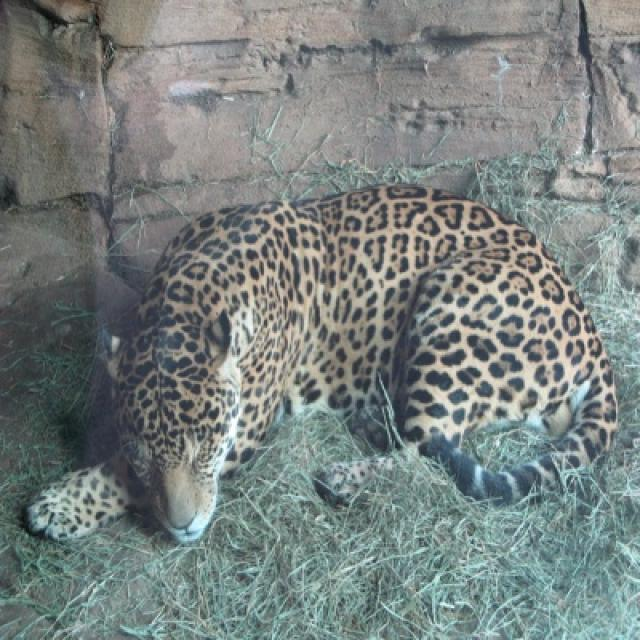Jaguar: (24, 184, 621, 549)
